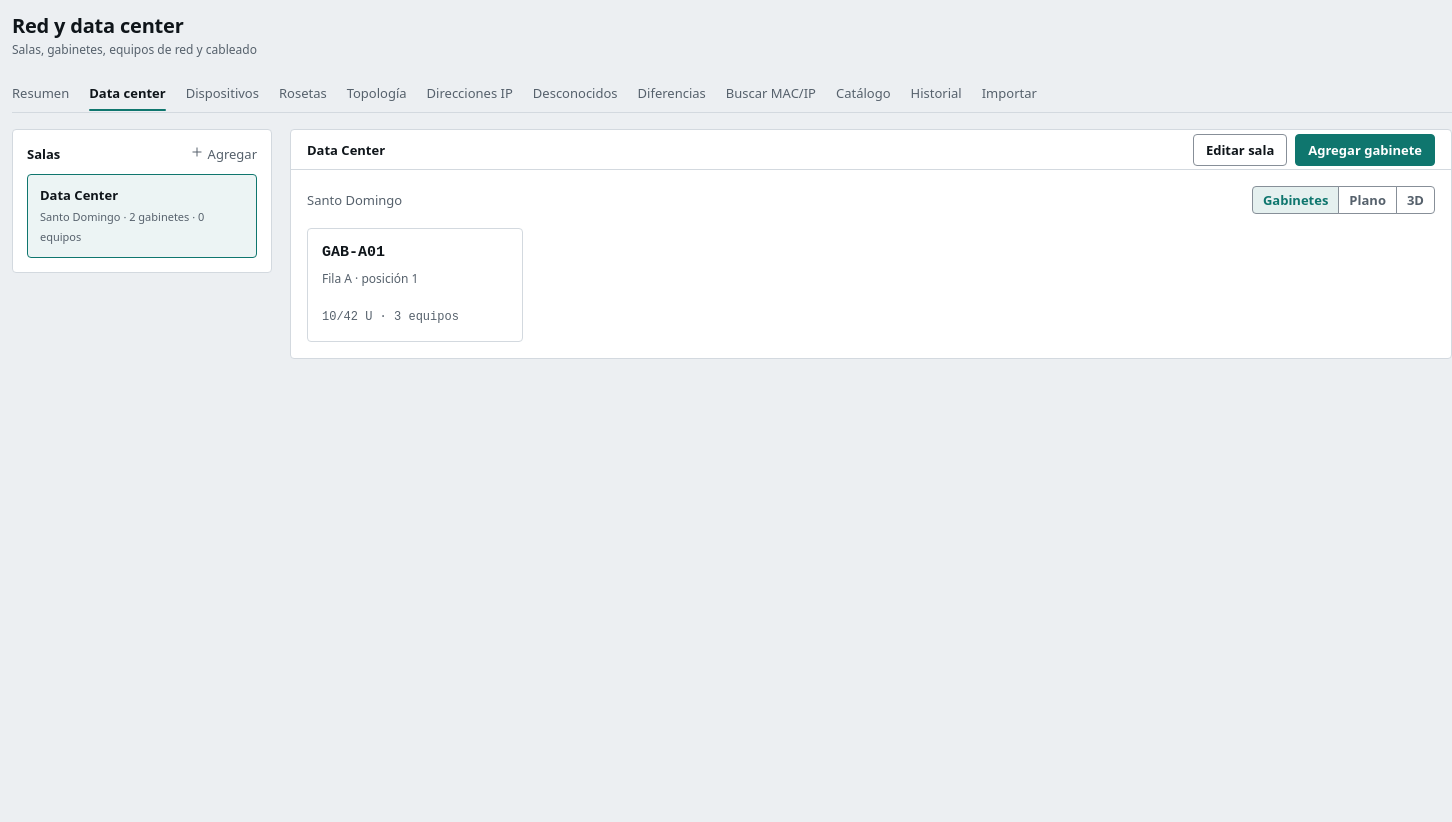
Scenario: editar la sala (decisión 96) › un switch que trajo el FortiGate va al gabinete desde «Sin gabinete»
Later steps or results of the test are not shown.
Click the button "GAB-A01 Fila A · posición 1 10/42 U · 3 equipos" at (415, 285), box [307, 228, 523, 342]
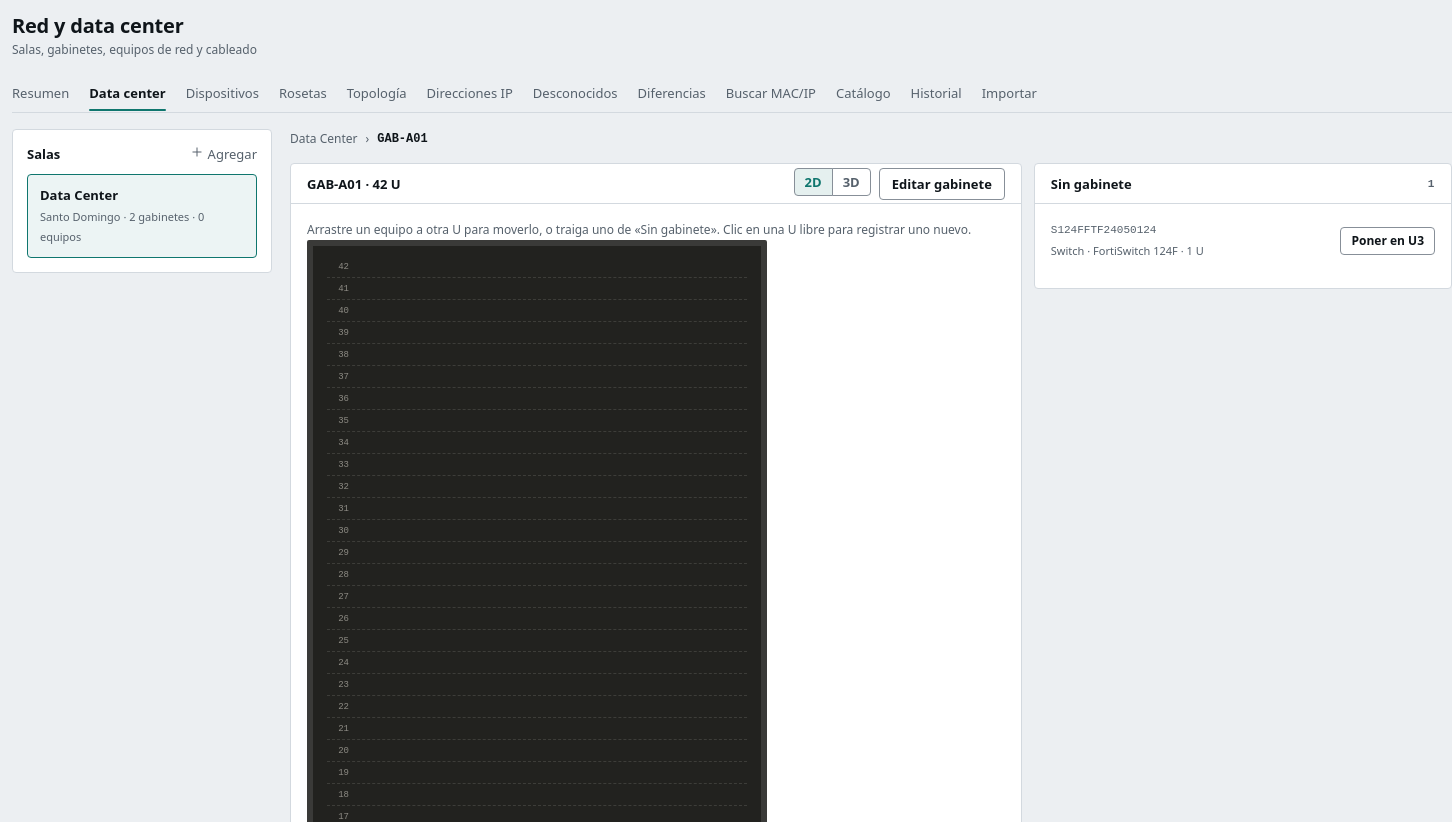
Now the text "S124FFTF24050124" is shown, box [1051, 224, 1156, 236]
